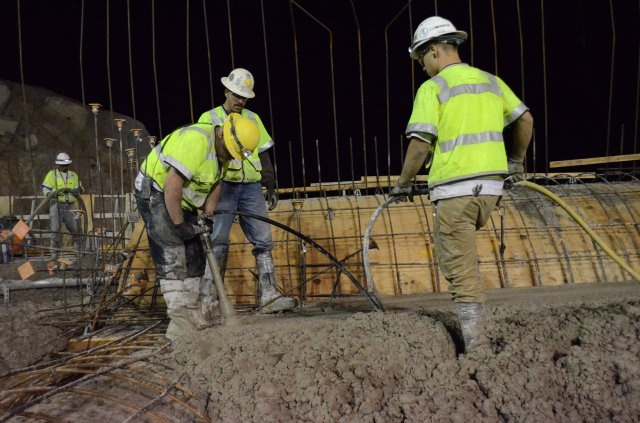white: (412, 16, 462, 77), (222, 66, 256, 110), (53, 151, 72, 171)
yellow: (217, 113, 260, 161)
